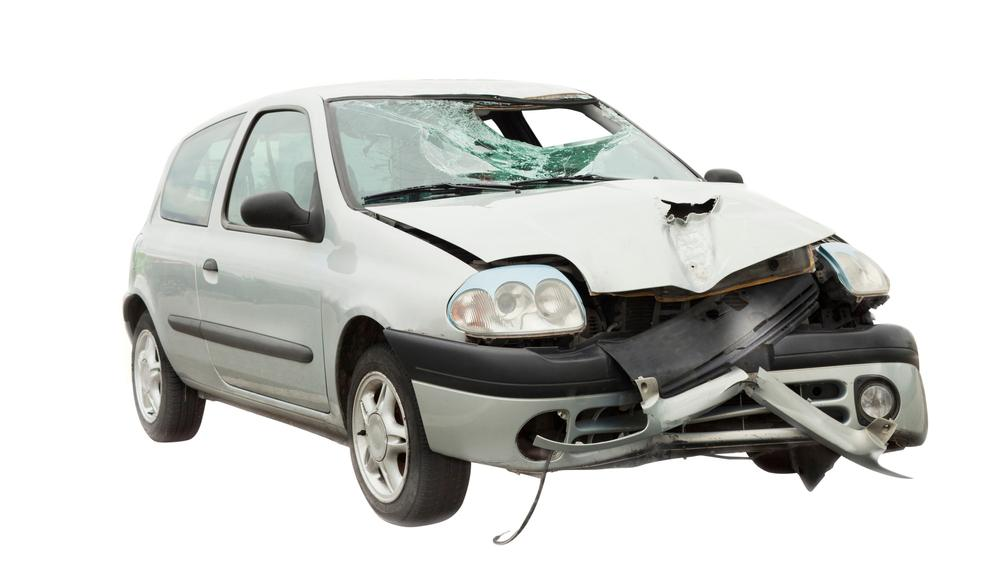crack: (659, 197, 719, 222), (722, 365, 761, 395)
dent: (664, 214, 722, 288)
glass shatter: (329, 95, 700, 203)
